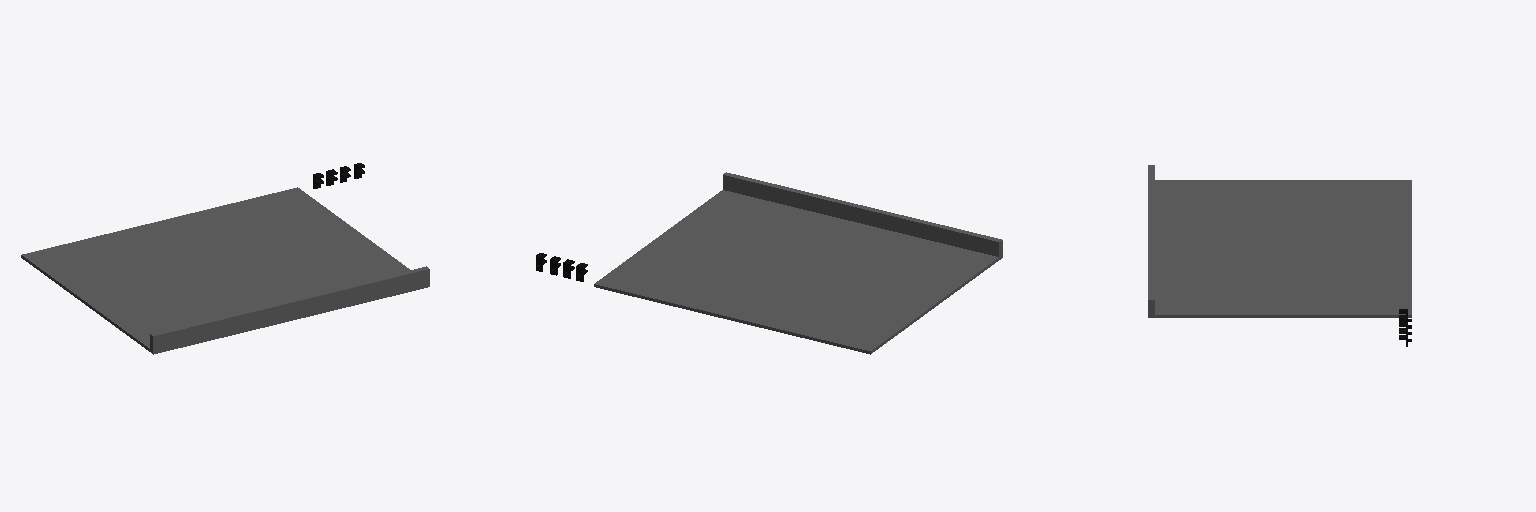
File: IKEA.ART.10243296.obj
The picture shows the model from 3 angles: view 1: azimuth 30°, elevation 25°; view 2: azimuth 150°, elevation 25°; view 3: azimuth 270°, elevation 25°; orthographic projection.
Visible parts, largest first — view 1: model_model.003; view 2: model_model.003; view 3: model_model.003.
Part boxes in pixels (bbox=[...]): model_model.003: bbox=[21, 163, 429, 354]; model_model.003: bbox=[536, 172, 1002, 354]; model_model.003: bbox=[1148, 165, 1411, 346].
Bounding box in the file's own units: 0.678 × 0.035 × 0.46.